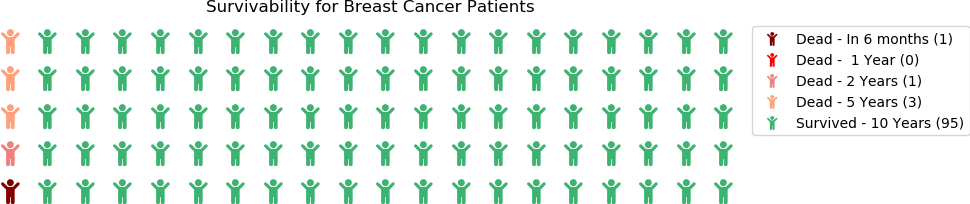

This screenshot's page, from the dashboard's own definition file:
{"tool":"tableau","page":{"name":"Dashboard 1","canvas":[1000,1000],"units":"permille","ordinal":0},"visuals":[{"type":"worksheet","title":"Sheet 3","mark":"Automatic","rows":["Category"],"box":[5.9,11.4,988.3,62.6]},{"type":"worksheet","title":"Sheet 2","mark":"Automatic","rows":["Component/Deliverable","Calculation_600104685618405377"],"box":[5.9,74,435.4,914.6]},{"type":"worksheet","title":"Sheet 1","mark":"Shape","rows":["Performance","Calculation_600104685617672192"],"cols":["Importance"],"box":[441.3,74,435.4,914.6]},{"type":"legend","title":"Sheet 2","param":"[federated.1sumkmq0vcyxtd1485je51e8ata2].[sum:Calculation_600104685618442242:qk]","box":[876.7,74,117.4,83.9]},{"type":"legend","title":"Sheet 2","param":"[federated.1sumkmq0vcyxtd1485je51e8ata2].[:Measure Names]","box":[876.7,157.9,117.4,89.6]},{"type":"filter","title":"Sheet 1","param":"[federated.1sumkmq0vcyxtd1485je51e8ata2].[none:Category:nk]","box":[876.7,247.5,117.4,155.1]},{"type":"legend","title":"Sheet 1","param":"[federated.1sumkmq0vcyxtd1485je51e8ata2].[none:Calculation_600104685618405377:nk","box":[768.9,779.5,102.7,106.7]}]}

Visuals, with their boxes on the dashboard's canvas, which has no fixed pixel size, in thousandths of its width and height (x1, y1, x2, y2). These are canvas units, not pixel positions in the 970x204 screenshot, which may show the page scaled, cropped or inside an application window:
"Sheet 3" worksheet: left=6, top=11, right=994, bottom=74
"Sheet 2" worksheet: left=6, top=74, right=441, bottom=989
"Sheet 1" worksheet (Shape marks): left=441, top=74, right=877, bottom=989
"Sheet 2" legend: left=877, top=74, right=994, bottom=158
"Sheet 2" legend: left=877, top=158, right=994, bottom=248
"Sheet 1" filter: left=877, top=248, right=994, bottom=403
"Sheet 1" legend: left=769, top=780, right=872, bottom=886
